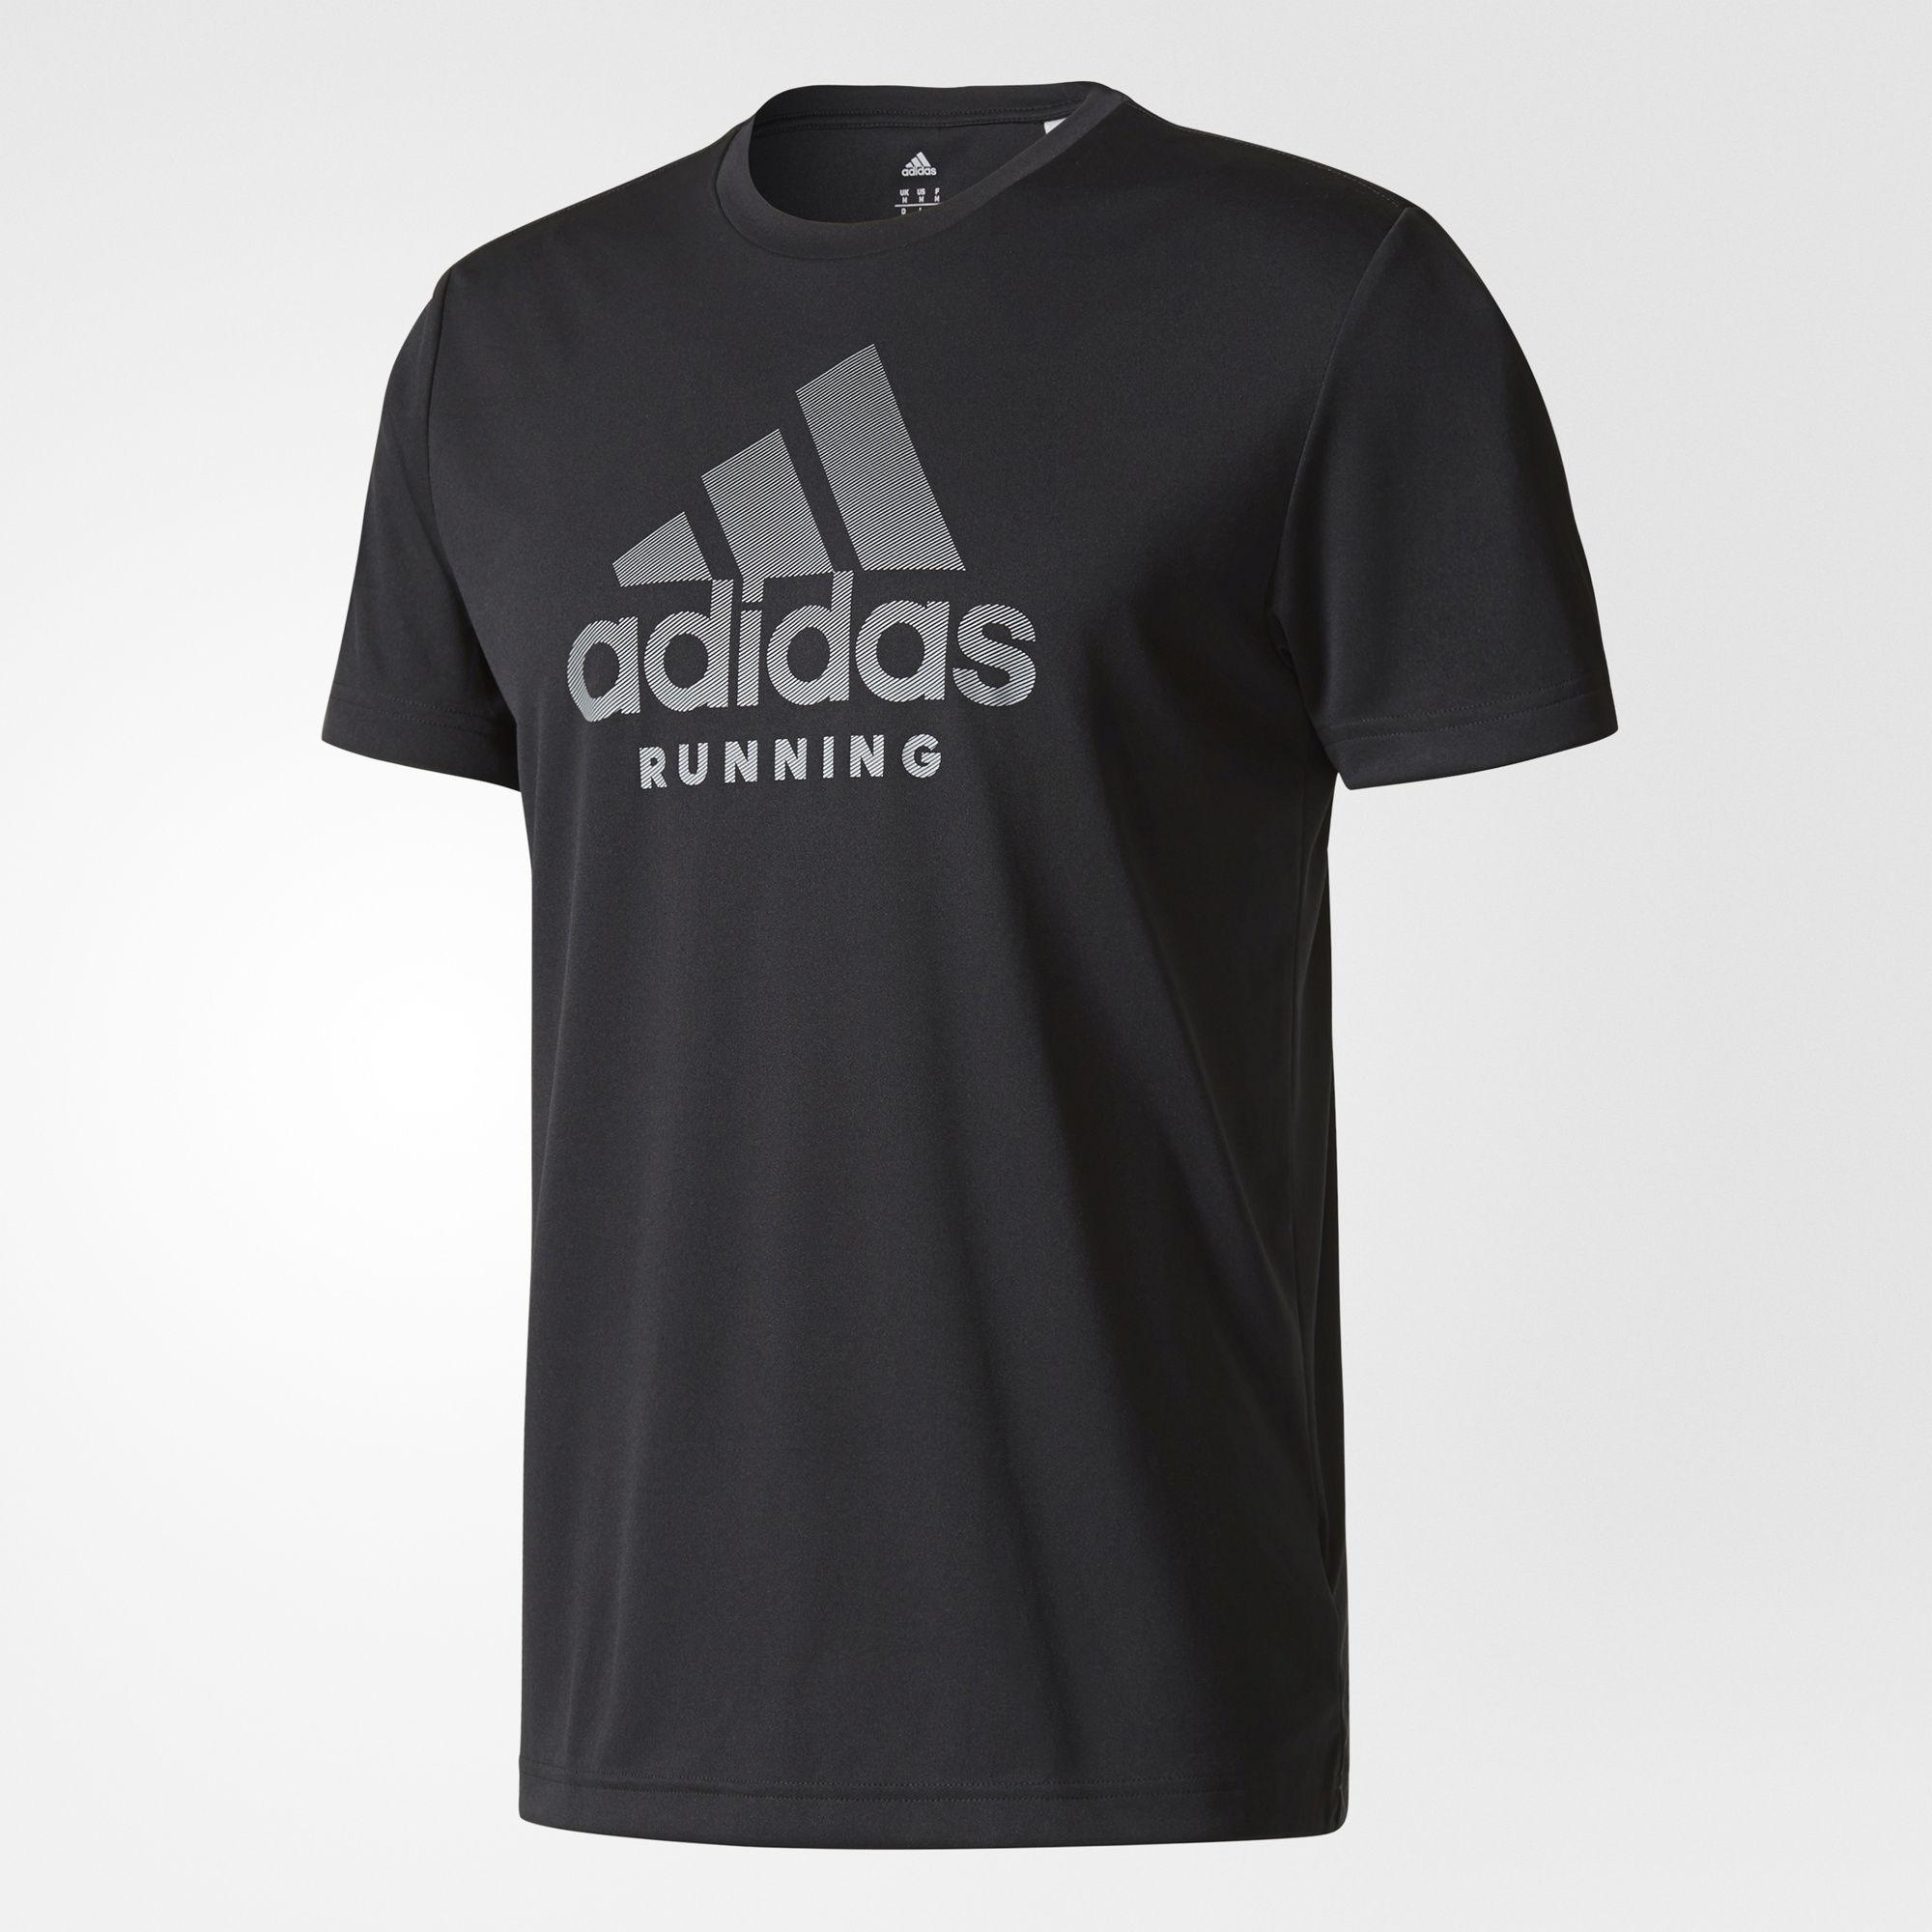teeshirt: (267, 64, 1675, 1898)
